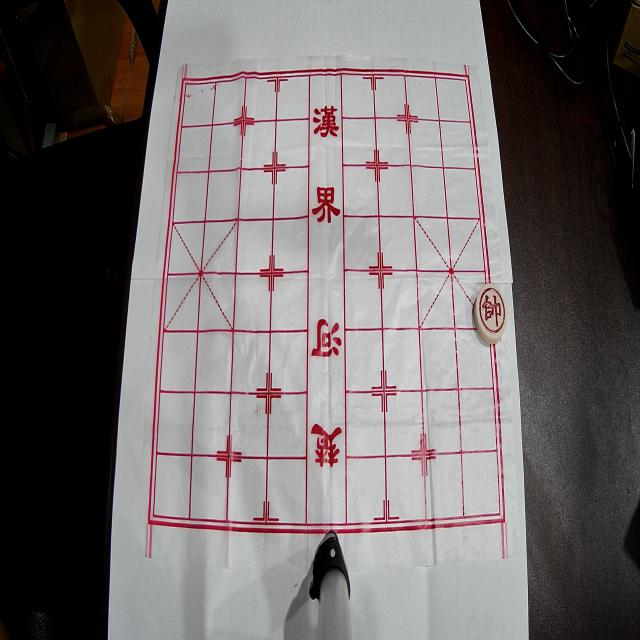red-general: (474, 284, 508, 344)
